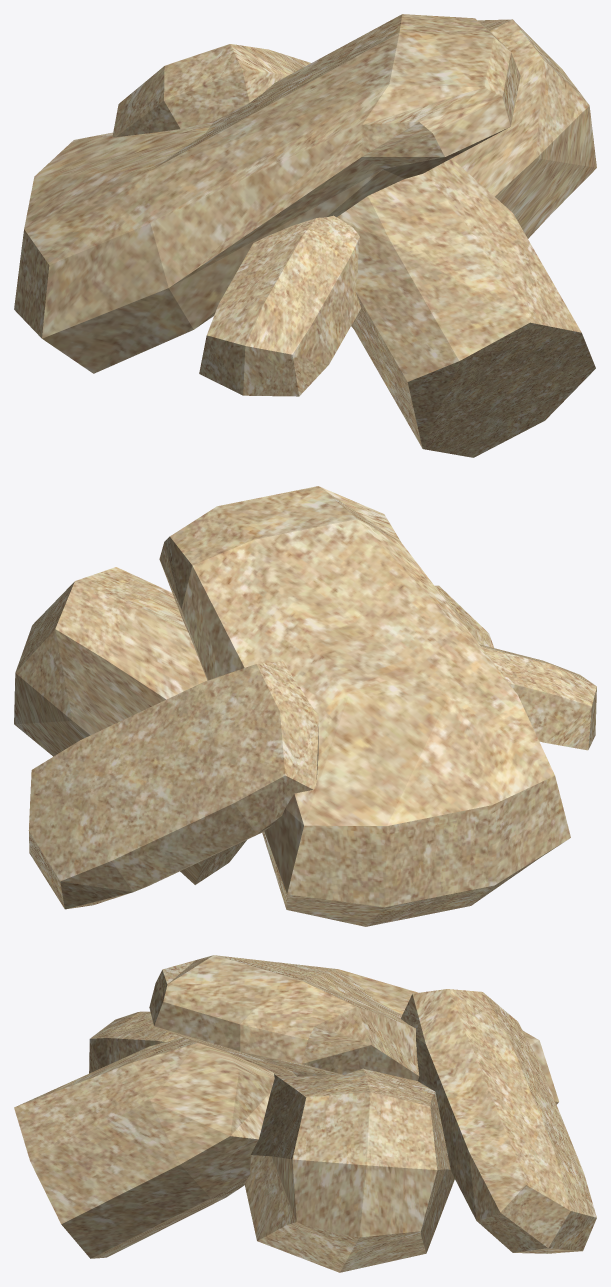
Rendered from tatt_rock_formation_a1_l0.fbx.
3 renders of one model, top to bottom at view 1: azimuth 30°, elevation 25°; view 2: azimuth 150°, elevation 25°; view 3: azimuth 270°, elevation 25°, orthographic. The views are drawn at different scales.
Visible parts, largest first — view 1: mesh_node; view 2: mesh_node; view 3: mesh_node.
Part boxes in pixels (<box>): mesh_node: <box>14,14,596,457</box>; mesh_node: <box>14,486,596,926</box>; mesh_node: <box>14,955,596,1272</box>.
Size of the model in its own units: 11.04 by 6.32 by 11.4.
Materials: 1 (1 with a texture image).
